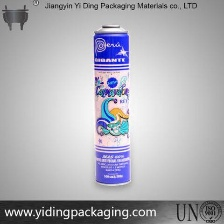aerosol_cans: (89, 20, 133, 189)
